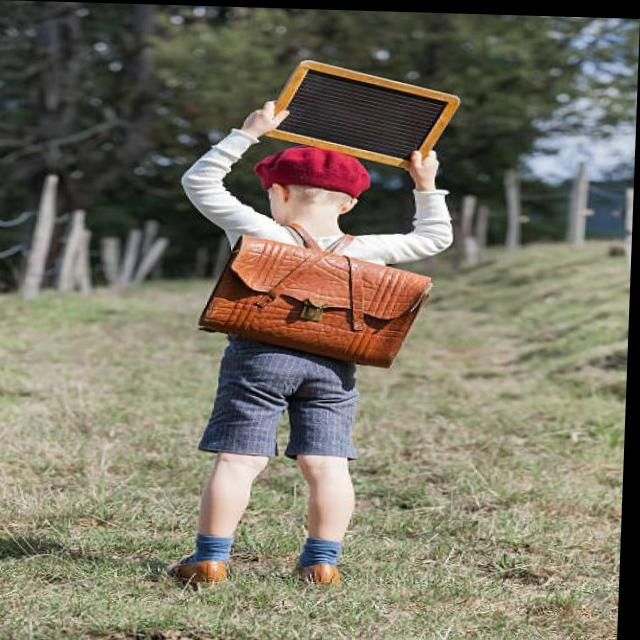no helmet: (226, 128, 388, 248)
